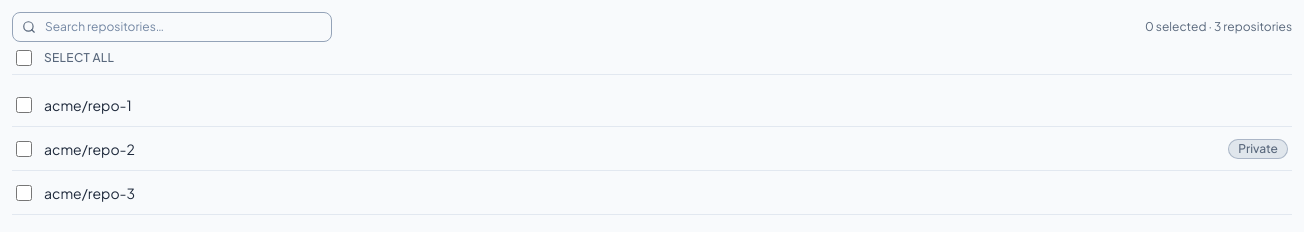
RepositoryPickerList › shows the selected count and total
The image size is (1304, 232).
Expected: the text "0 selected · 3 repositories" is shown, [1145,19,1292,35]
Click the checkbox labelled "acme/repo-1": [24, 104] box [16,96,32,112]
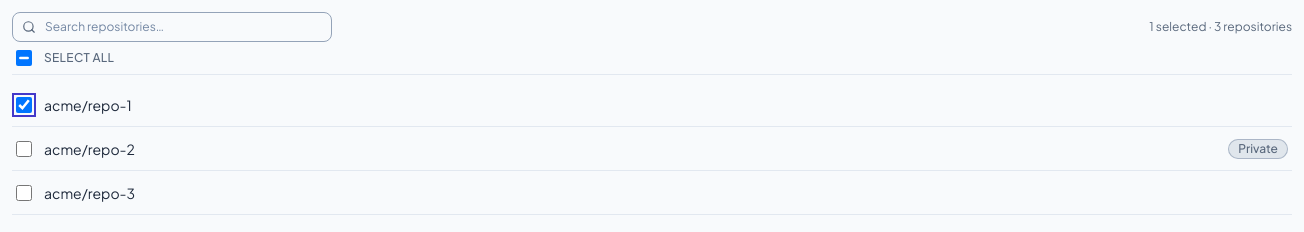
Expected: the text "1 selected · 3 repositories" is shown, [1149,19,1292,35]
